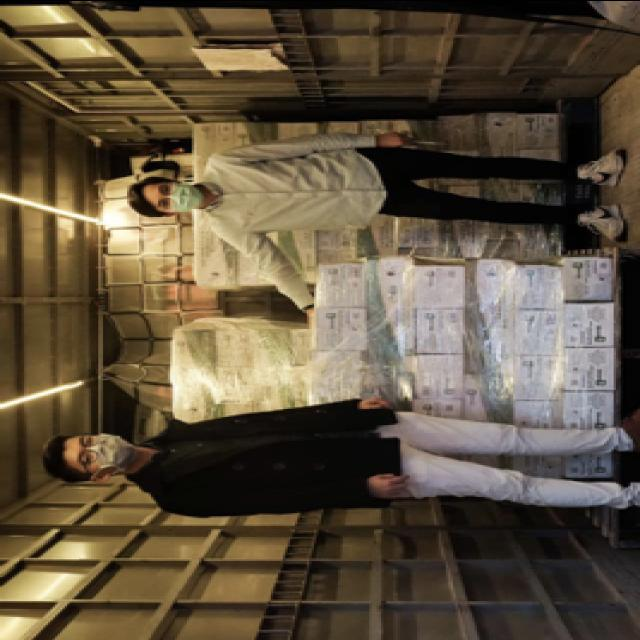mask: (75, 432, 136, 475), (152, 178, 204, 212)
